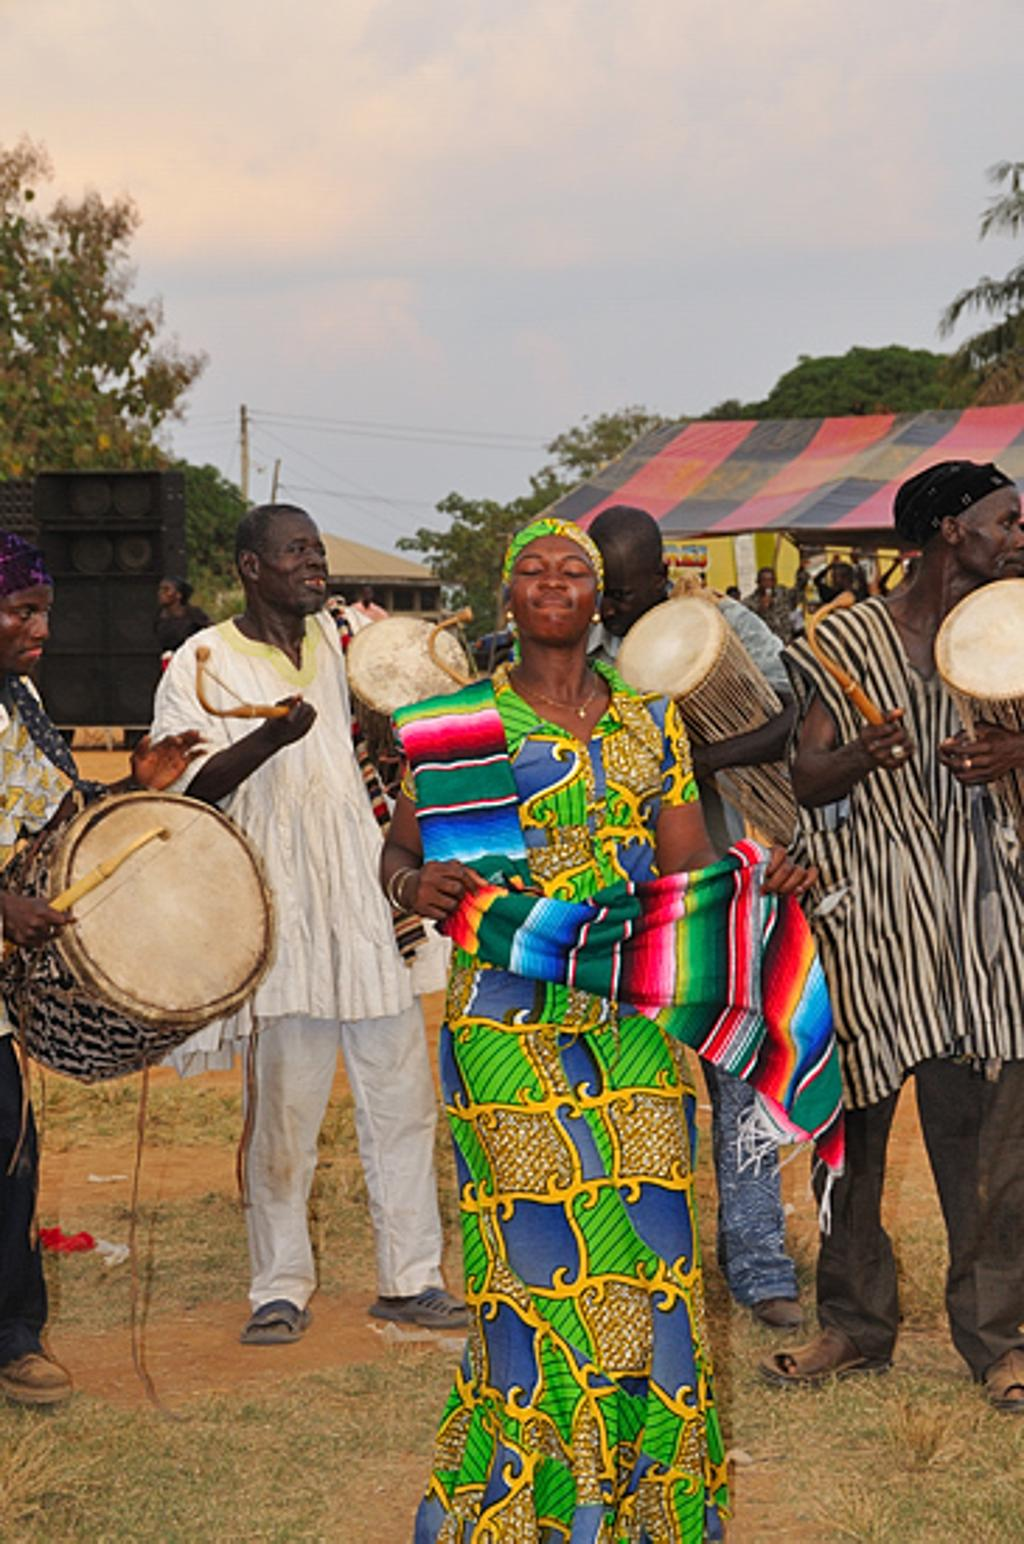face: (510, 535, 595, 640), (257, 516, 328, 604), (962, 485, 1023, 585), (590, 557, 655, 636), (0, 583, 53, 673), (157, 583, 174, 603), (758, 572, 773, 591), (329, 596, 343, 614), (835, 568, 846, 584), (361, 587, 372, 600)
